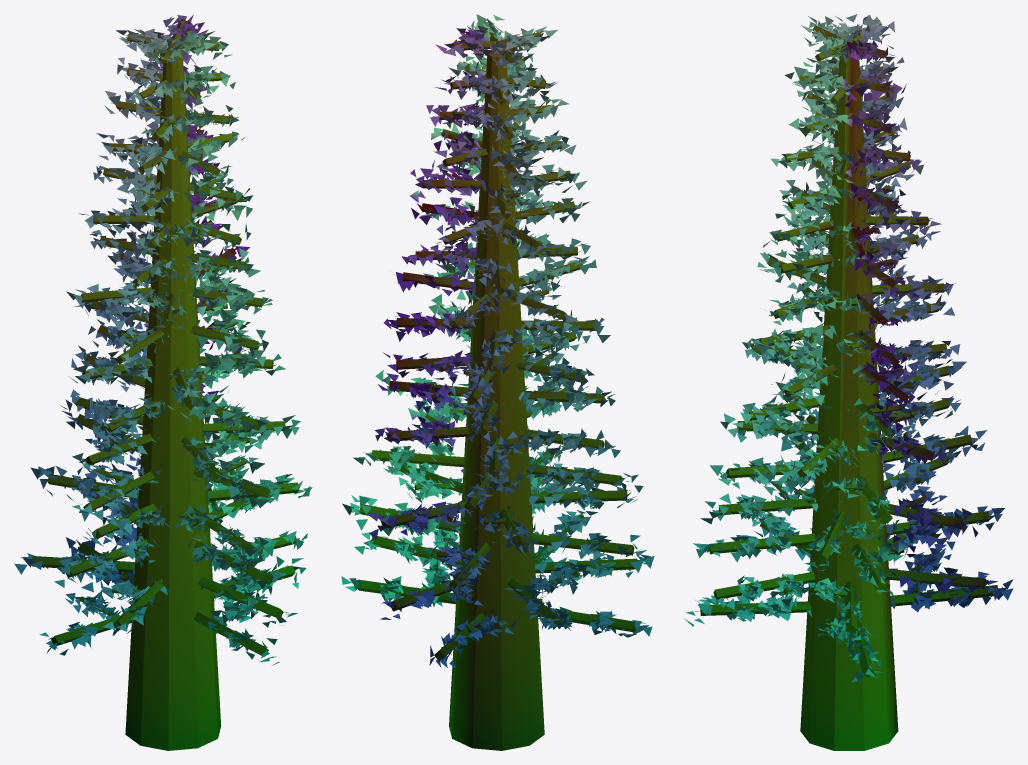
The model's file is ecological_conifer_old_02.glb.
3 views of the same model, side by side, from view 1: azimuth 30°, elevation 25°; view 2: azimuth 150°, elevation 25°; view 3: azimuth 270°, elevation 25° (orthographic).
Parts seen in each view (by area): view 1: ecological_conifer_old_02; view 2: ecological_conifer_old_02; view 3: ecological_conifer_old_02.
Part boxes in pixels (x1,y1,x2,y2): ecological_conifer_old_02: (14,14,312,750); ecological_conifer_old_02: (341,14,654,750); ecological_conifer_old_02: (685,14,1013,750).
Bounding box in the file's own units: 25.36 × 59.48 × 25.43.
